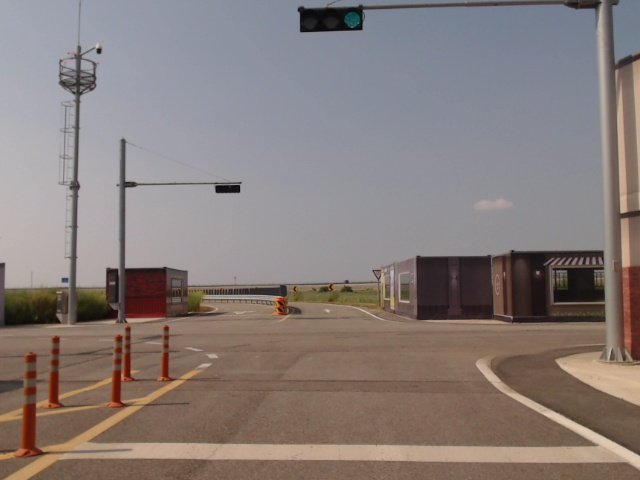green_3: (300, 9, 363, 32)
